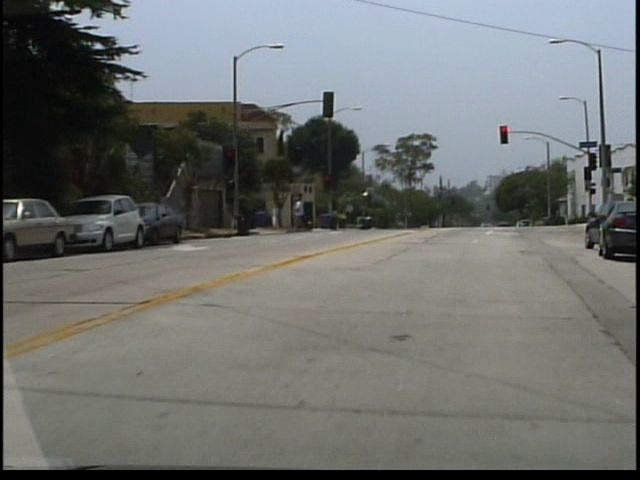person: (297, 198, 310, 235), (276, 203, 285, 233)
